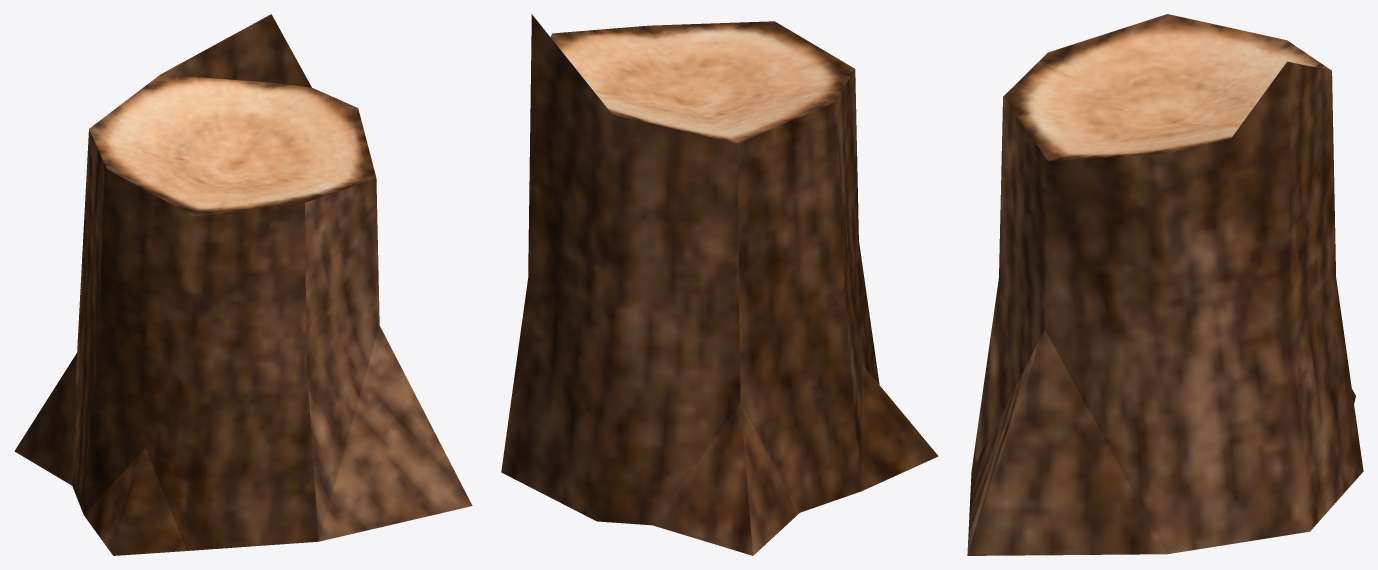
File: TreeStump.fbx
3 views of the same model, side by side, from view 1: azimuth 30°, elevation 25°; view 2: azimuth 150°, elevation 25°; view 3: azimuth 270°, elevation 25° (orthographic). The views are drawn at different scales.
Visible parts, largest first — view 1: TreeStump; view 2: TreeStump; view 3: TreeStump.
Boxes of the visible parts, bbox=[...] form: TreeStump: bbox=[14, 14, 472, 555]; TreeStump: bbox=[501, 14, 938, 555]; TreeStump: bbox=[967, 14, 1363, 555].
Size of the model in its own units: 138 by 166 by 130.
